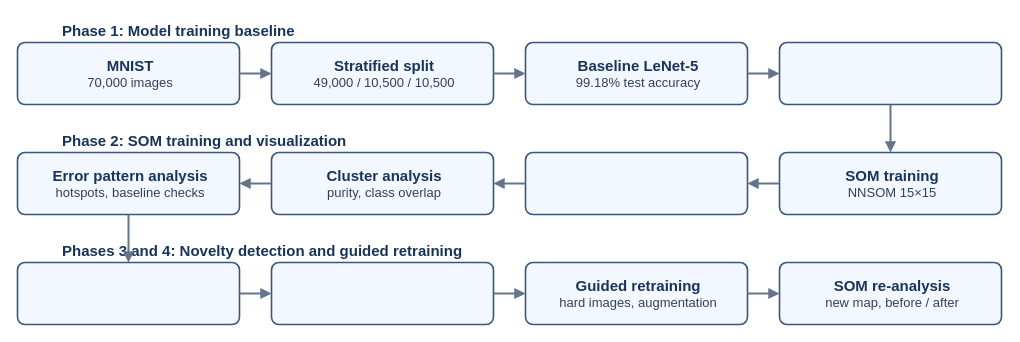
The diagram is 1020 pixels wide and 342 high, and some of its shapes have lost their labels. The box of each missing label's shape, as (x1, y1, x2, y2) in pixels:
Comparative evaluation max-softmax, energy, Mahalanobis: (270, 261, 494, 325)
fc2 embeddings 84 numbers per image: (778, 41, 1002, 105)
Novelty detection quantization error: (16, 261, 240, 325)
SOM visualization U-matrix, hit histogram: (524, 151, 748, 215)
